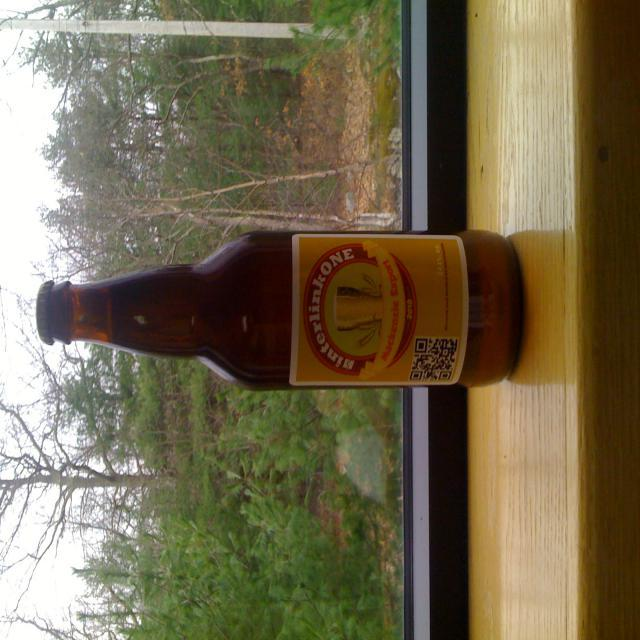qrcode: (410, 339, 459, 381)
